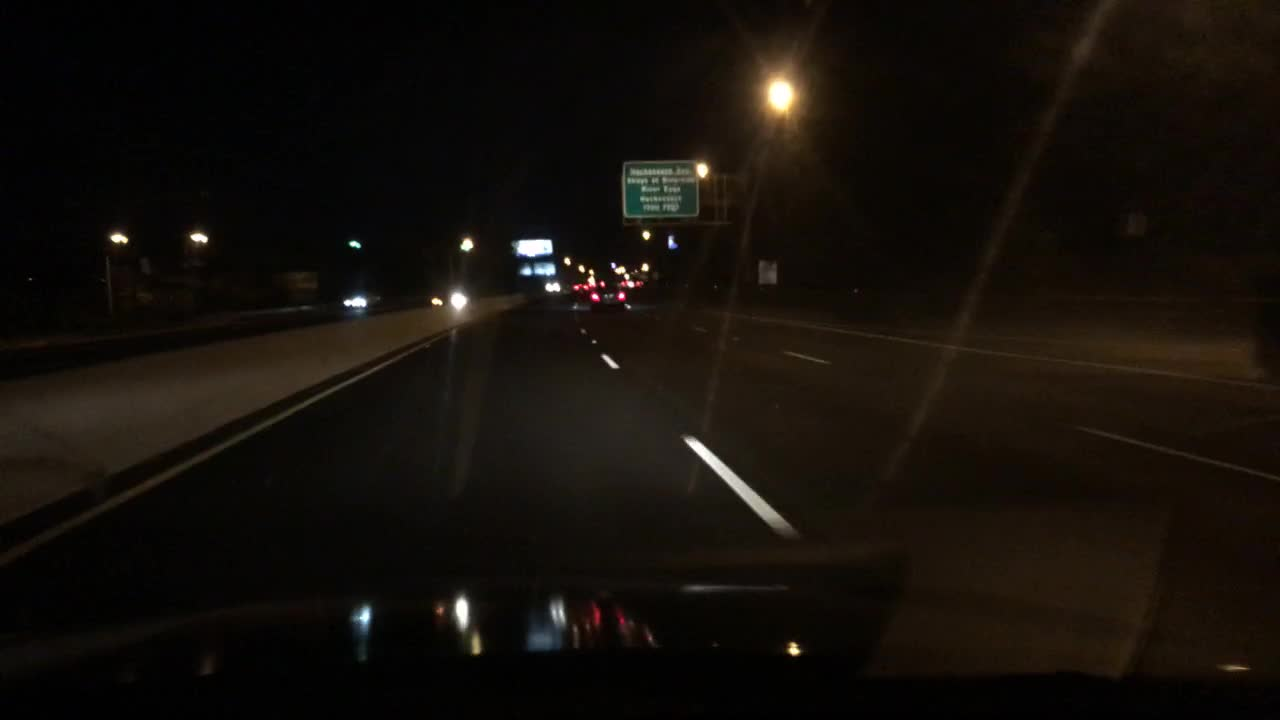car: (590, 279, 626, 304), (429, 289, 466, 309), (344, 293, 380, 310), (623, 278, 645, 289), (570, 281, 588, 294), (542, 280, 561, 291)
traffic light: (349, 237, 359, 249)
traffic sign: (623, 159, 699, 214), (757, 260, 777, 285)
